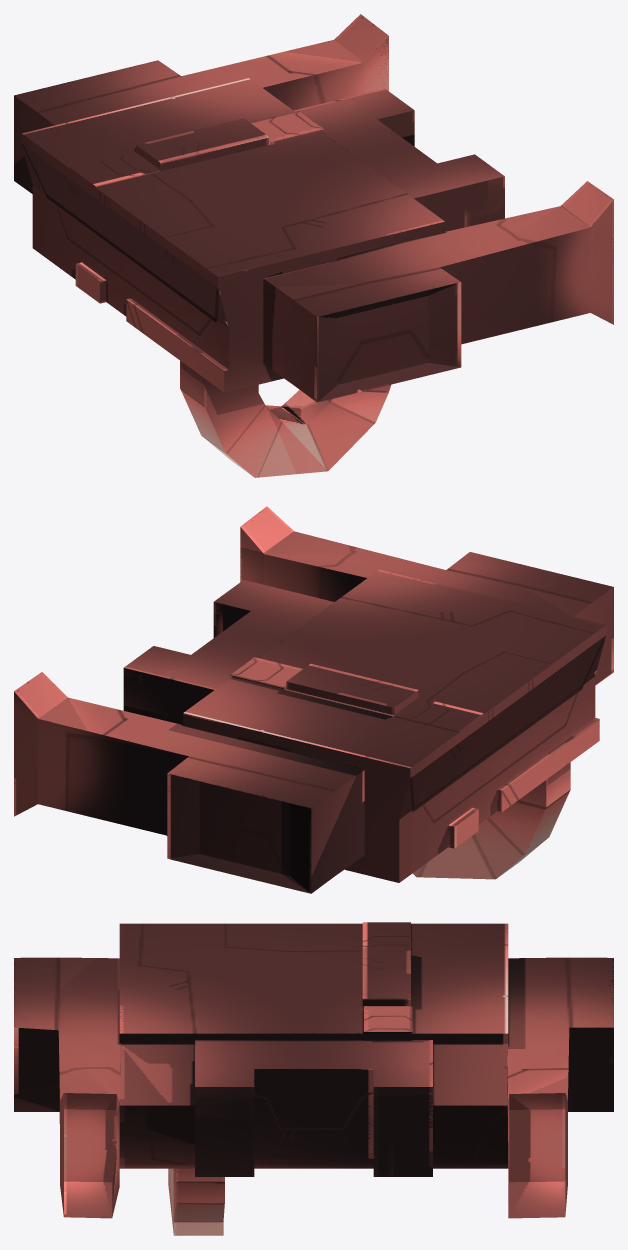
File: Turret.fbx
The picture shows the model from 3 angles, top to bottom: view 1: azimuth 30°, elevation 25°; view 2: azimuth 150°, elevation 25°; view 3: azimuth 270°, elevation 25°; orthographic projection.
Visible parts, largest first — view 1: Cube.001; view 2: Cube.001; view 3: Cube.001.
Part boxes in pixels (box(x1,y1,x2,y2)): Cube.001: box(14, 14, 613, 477); Cube.001: box(14, 506, 613, 893); Cube.001: box(14, 922, 613, 1235).
Bounding box in the file's own units: 353 × 235 × 504.
Materials: 1 (1 with a texture image).
